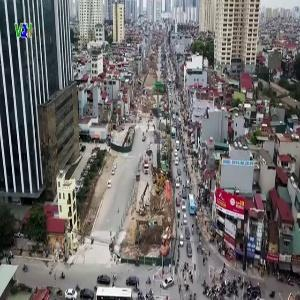drone: (129, 89, 185, 145)
